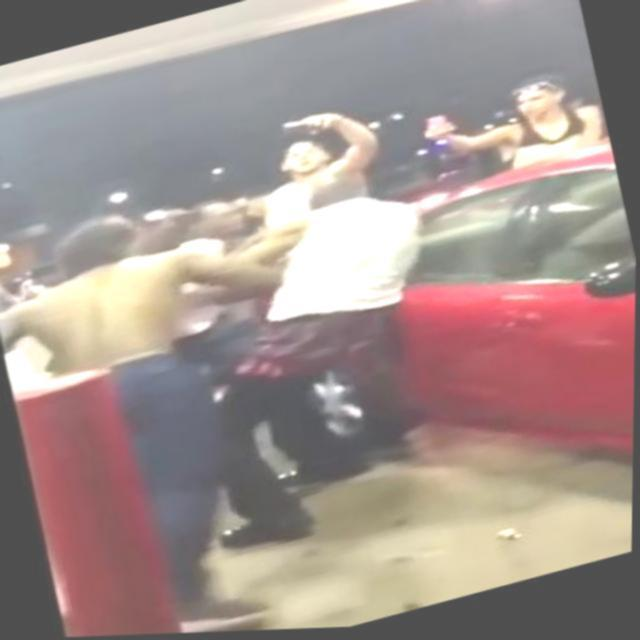fight: (0, 142, 478, 596)
